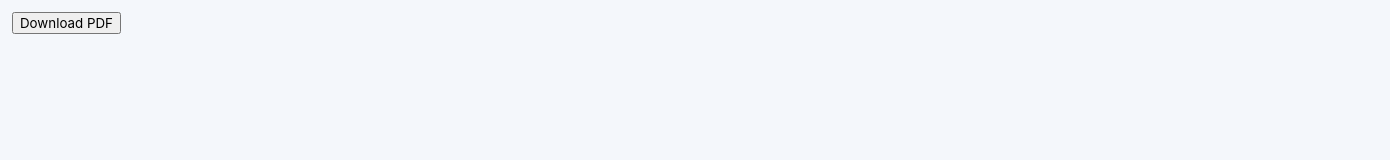
Test: unsupported browsers download one PDF with the edited filename and explain folder settings
Later steps or results of the test are not shown.
Click the button "Download PDF": click(66, 23) [12, 12, 121, 34]
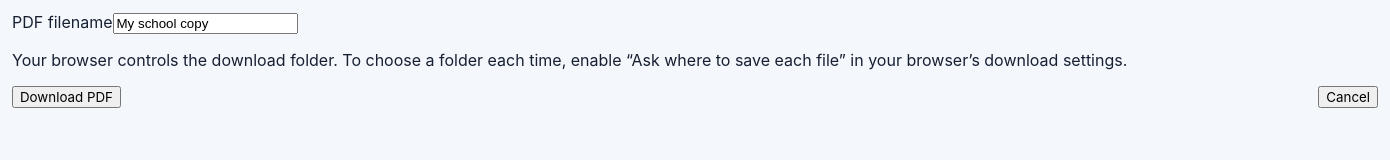
expect the text "Ask where to save each file" is shown: met, box [12, 50, 1127, 70]
